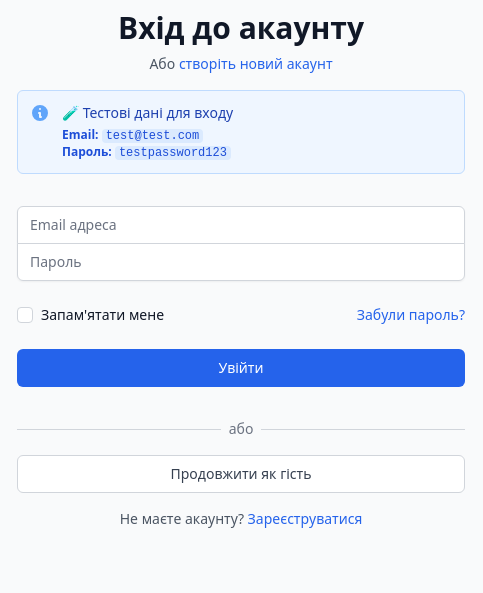
Test: LoginPage Component › Form Validation › shows validation error for empty email
Click the button "Увійти" at (241, 368), box [17, 349, 465, 387]
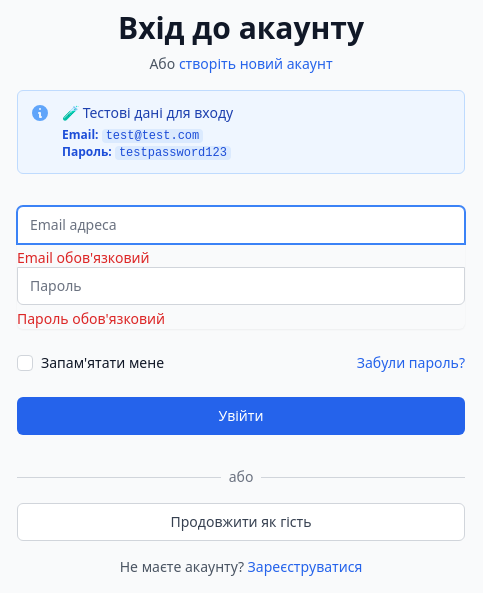
Expected: the text "Email обов'язковий" is shown, [17, 248, 150, 267]
